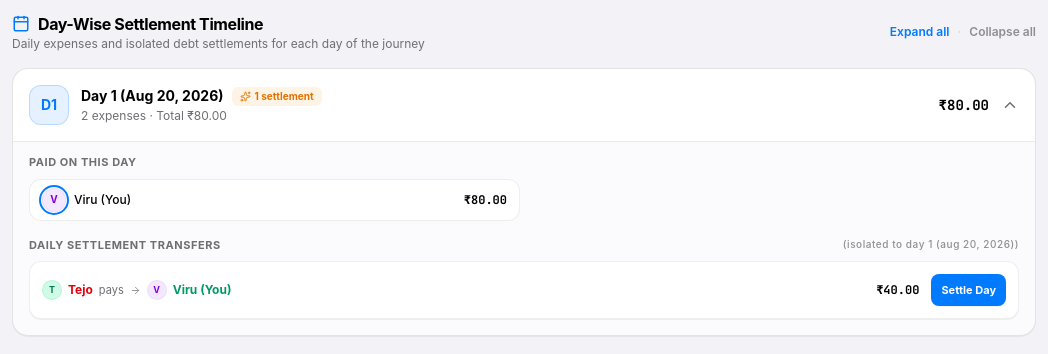
Test: Challenger 2 — Financial Math, Tabular Alignments & Motion Verification › 5. Accordion Motion Stability: Zero-Popping CSS Grid Expansion › DailyBreakdown: uses data-expanded with CSS grid-rows-[0fr] to grid-rows-[1fr] transition
Expected: the element with id "day-content-2026-08-20" is shown, [13, 141, 1035, 335]
// Click header trigger to toggle collapse
Click the button with id "day-header-2026-08-20": (49, 105) [13, 69, 1035, 141]
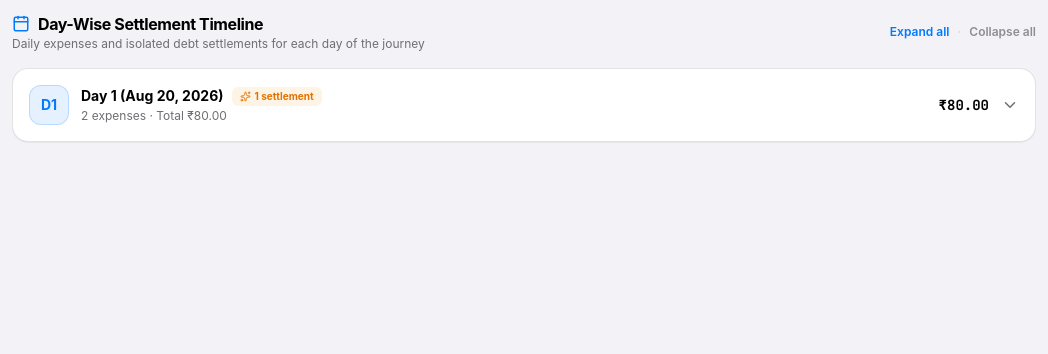
Expected: the button with id "day-header-2026-08-20" is collapsed, [13, 69, 1035, 141]
